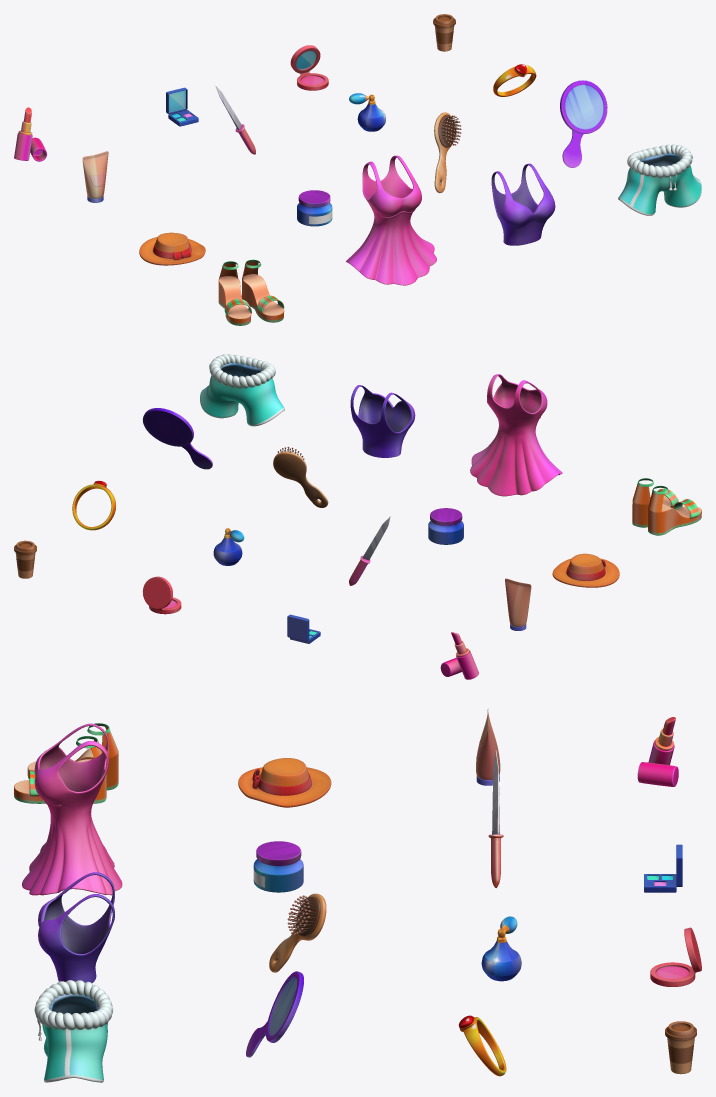
Rendered from Props Set_1_v3.fbx.
The picture shows the model from 3 angles, top to bottom: view 1: azimuth 30°, elevation 25°; view 2: azimuth 150°, elevation 25°; view 3: azimuth 270°, elevation 25°; orthographic projection. The views are drawn at different scales.
Parts seen in each view (by area): view 1: sleeveless__gown, girls_short, sleeveless_top_female1, brick_shoe_heel, hand_held_mirror, fashion_hat, hair_brush, skin_smooth_creme, pocket_mirror_w_powder_2, cosmetic_creme_tube, lipstick, perfume (+4 smaller); view 2: sleeveless__gown, girls_short, sleeveless_top_female1, brick_shoe_heel, hand_held_mirror, fashion_hat, hair_brush, skin_smooth_creme, cosmetic_creme_tube, pocket_mirror_w_powder_2, lipstick, perfume (+4 smaller); view 3: sleeveless__gown, girls_short, sleeveless_top_female1, fashion_hat, skin_smooth_creme, brick_shoe_heel, hair_brush, hand_held_mirror, lipstick, perfume, pocket_mirror_w_powder_2, cofee_cup (+4 smaller).
Boxes of the visible parts, x1,y1,x2,y2 form: sleeveless__gown: (346,155,436,285); girls_short: (618,144,701,215); sleeveless_top_female1: (491,163,555,245); brick_shoe_heel: (218,259,284,325); hand_held_mirror: (560,80,607,167); fashion_hat: (139,232,205,265); hair_brush: (434,112,461,193); skin_smooth_creme: (297,190,332,226); pocket_mirror_w_powder_2: (290,45,328,90); cosmetic_creme_tube: (82,151,108,202); lipstick: (14,107,47,161); perfume: (349,93,385,131); sleeveless__gown: (470,374,562,496); girls_short: (200,354,284,426); sleeveless_top_female1: (350,385,415,457); brick_shoe_heel: (632,478,701,535); hand_held_mirror: (142,408,212,469); fashion_hat: (552,553,619,587); hair_brush: (273,446,328,507); skin_smooth_creme: (428,508,463,544); cosmetic_creme_tube: (505,578,531,630); pocket_mirror_w_powder_2: (142,576,181,614); lipstick: (440,632,478,679); perfume: (213,528,244,565); sleeveless__gown: (22,723,122,895); girls_short: (34,980,113,1082); sleeveless_top_female1: (38,872,114,982); fashion_hat: (238,758,331,807); skin_smooth_creme: (253,841,303,892); brick_shoe_heel: (14,723,118,803); hair_brush: (269,893,326,972); hand_held_mirror: (246,971,303,1057); lipstick: (637,717,678,786); perfume: (481,916,521,981); pocket_mirror_w_powder_2: (650,927,701,986); cofee_cup: (665,1021,696,1074).
Bounding box in the file's own units: 77.31 × 16.98 × 67.62.
6 materials, 6 textured.
